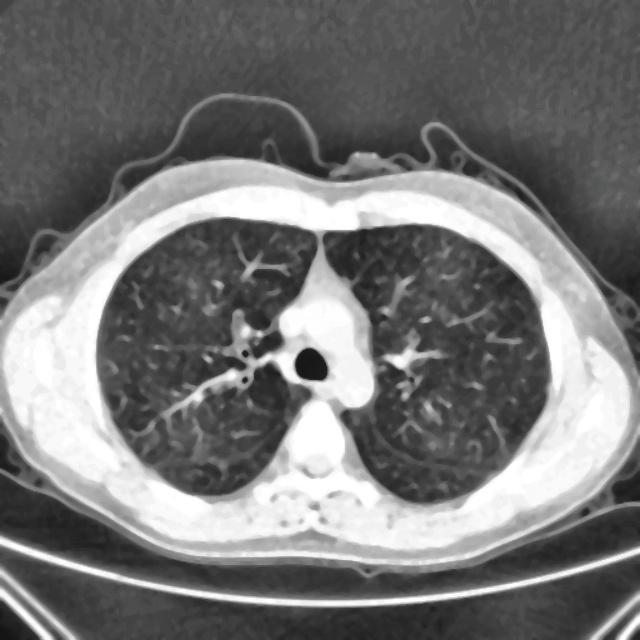covid: (0, 95, 639, 578)
